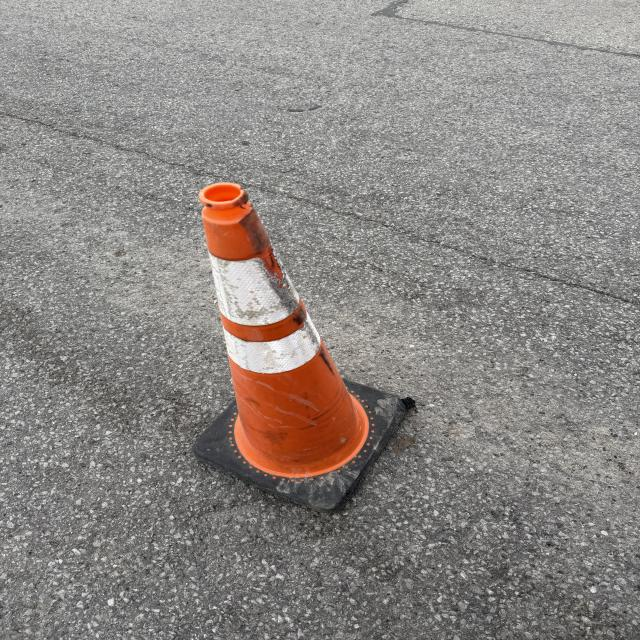Traffic Cone: (178, 182, 416, 514)
